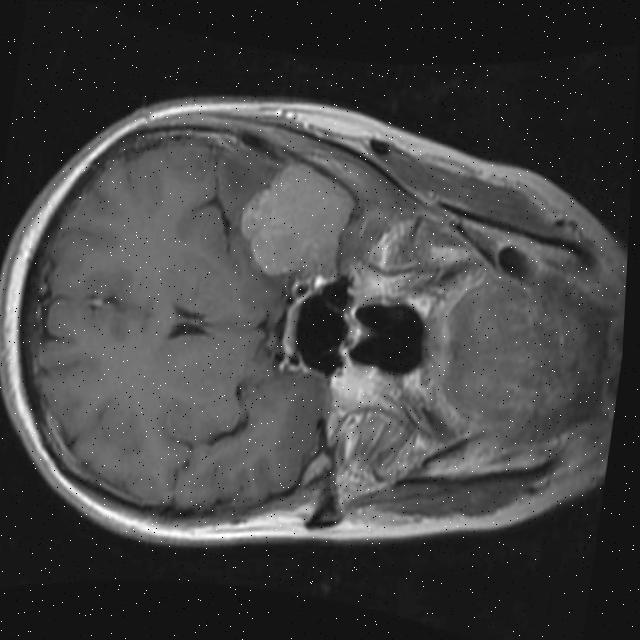Meningioma: (230, 155, 363, 286)
